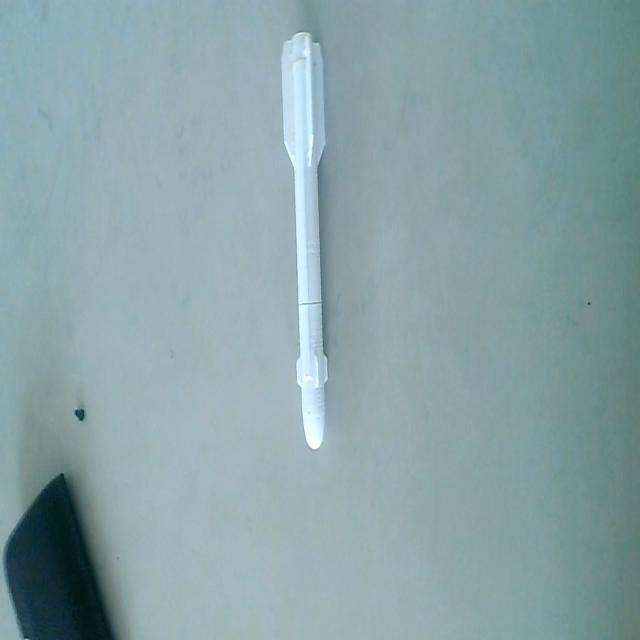Rocket: (280, 28, 330, 459)
